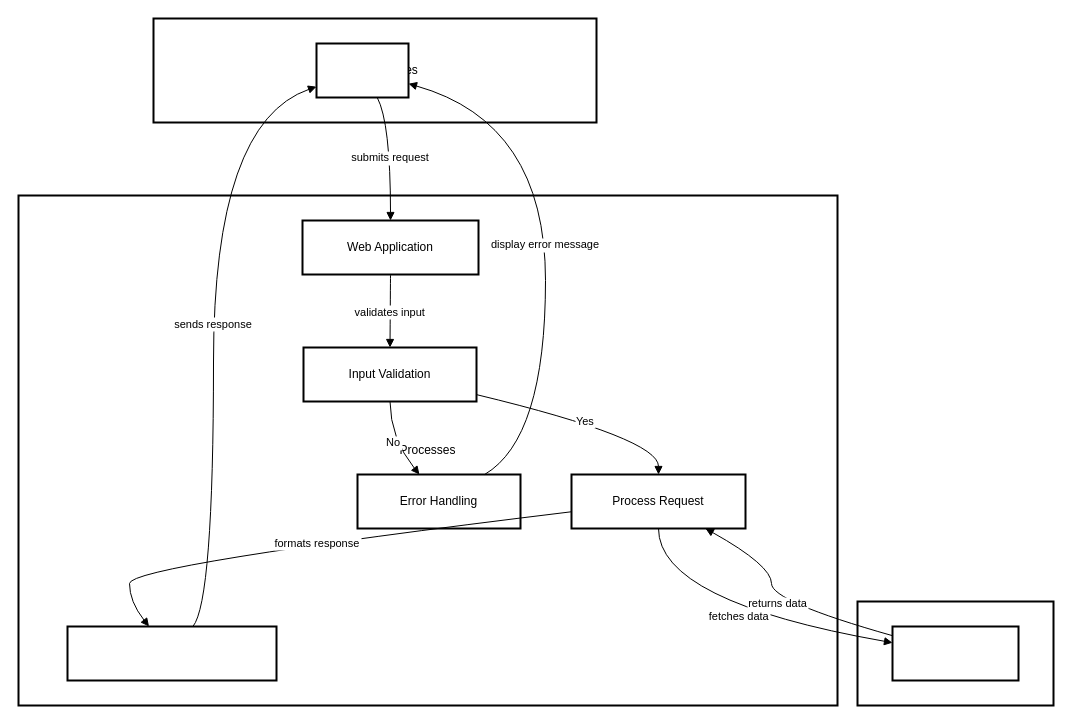
Image size: 1071x723. Some labels were removed from this diagram. The shapes that lost their labels are listed below. From the top down, each one's centre as x and y in pixels, then its label:
the point at 362,70: User
the point at 171,653: Response Formatting
the point at 955,653: Database
